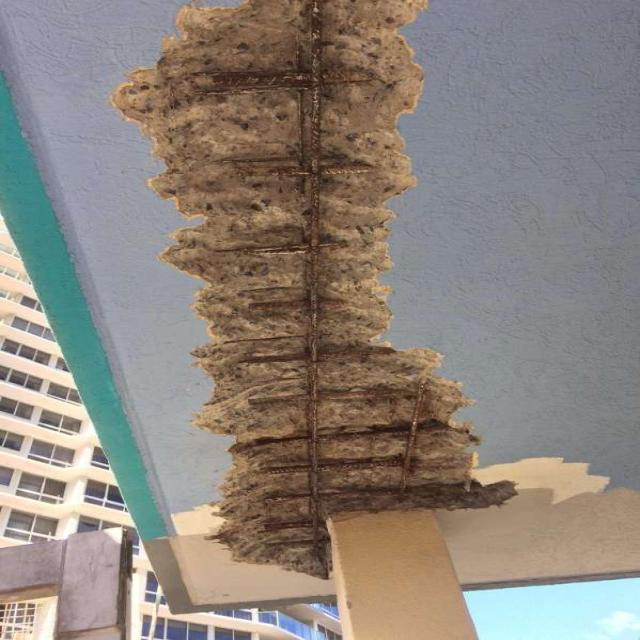Rebar: (108, 0, 517, 582)
